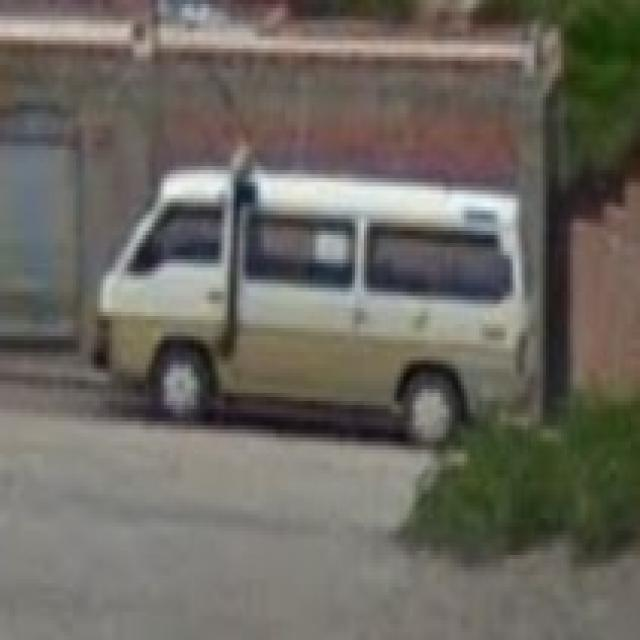Car: (97, 158, 531, 436)
